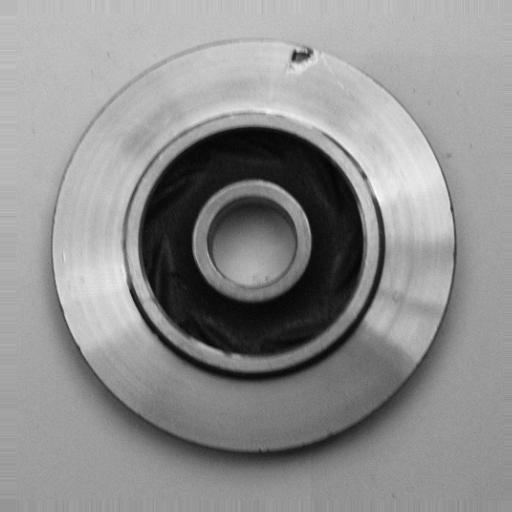crack: (282, 28, 332, 83)
unpolished_casting: (49, 38, 458, 459)
